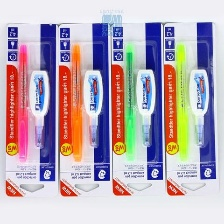book: (161, 20, 221, 197), (110, 18, 168, 198), (57, 22, 115, 198), (3, 21, 59, 198)
correction_fluid: (81, 66, 106, 148), (187, 67, 212, 149), (27, 67, 51, 148), (135, 68, 157, 147)
